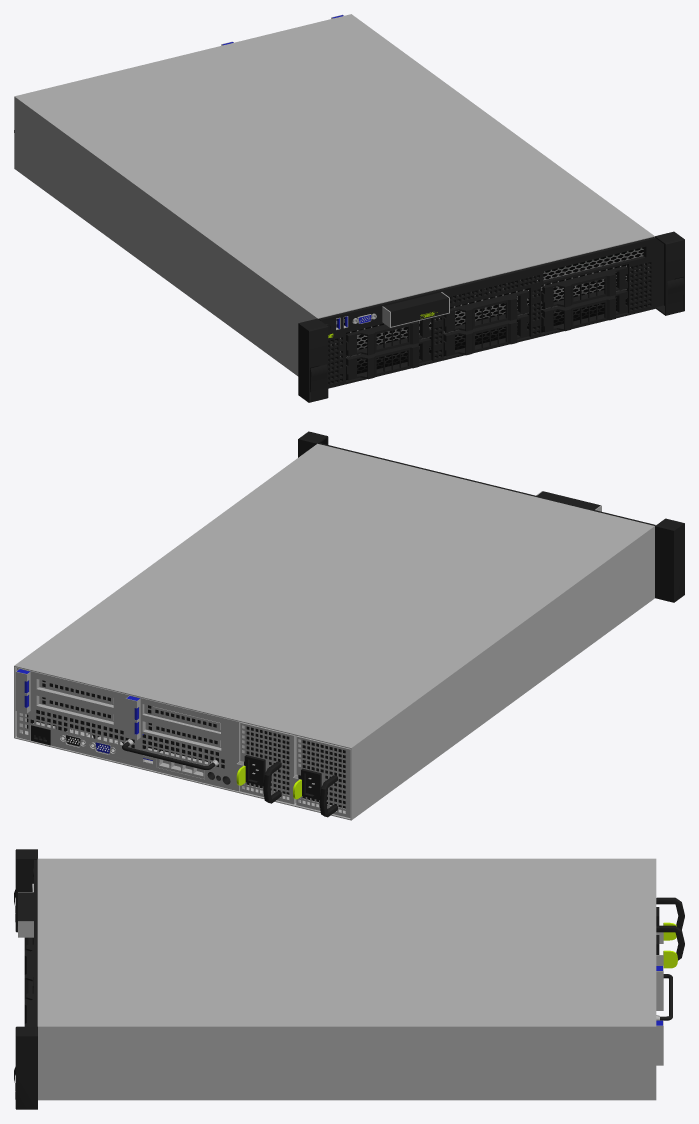
Rendered from Dell_R710.fbx.
The picture shows the model from 3 angles, top to bottom: view 1: azimuth 30°, elevation 25°; view 2: azimuth 150°, elevation 25°; view 3: azimuth 270°, elevation 25°; orthographic projection.
Parts seen in each view (by area): view 1: Dell_R710; view 2: Dell_R710; view 3: Dell_R710.
Boxes of the visible parts, left/top/right/bottom form: Dell_R710: left=14, top=14, right=684, bottom=402; Dell_R710: left=14, top=431, right=684, bottom=820; Dell_R710: left=14, top=849, right=684, bottom=1109.
Bounding box in the file's own units: 484 × 89 × 733.
Materials: 7 (1 with a texture image).
